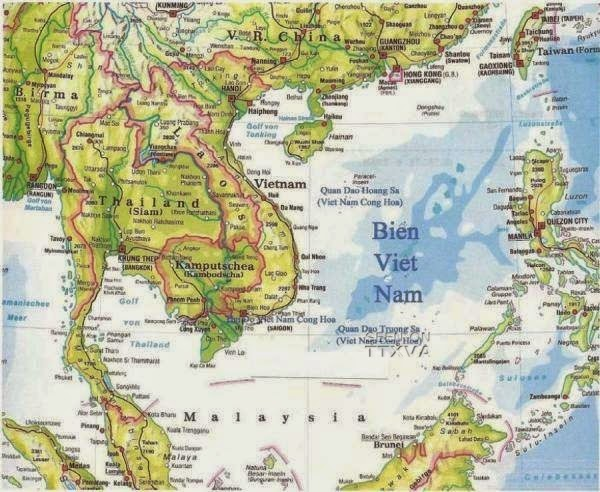Island: (316, 171, 405, 211), (333, 320, 433, 352)
